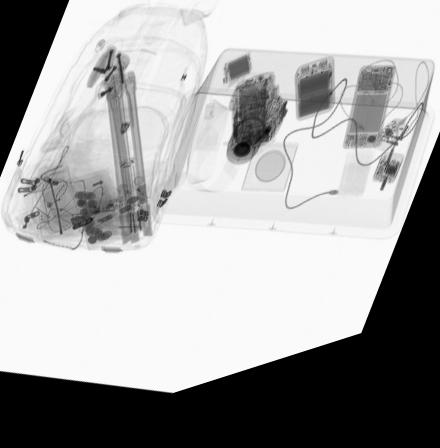Lighter: (120, 188, 151, 214)
